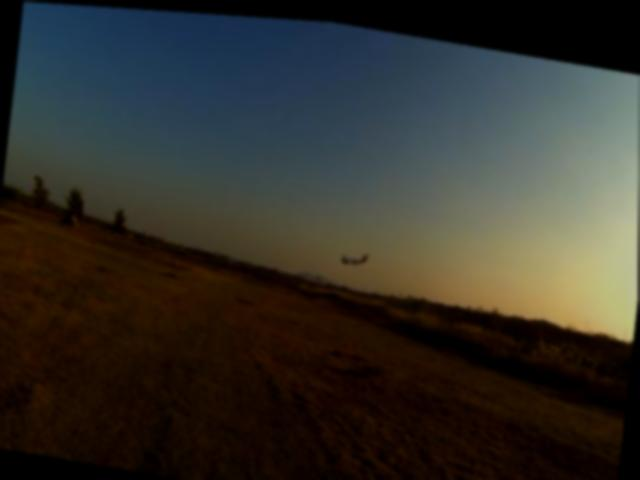uav: (335, 237, 377, 272)
